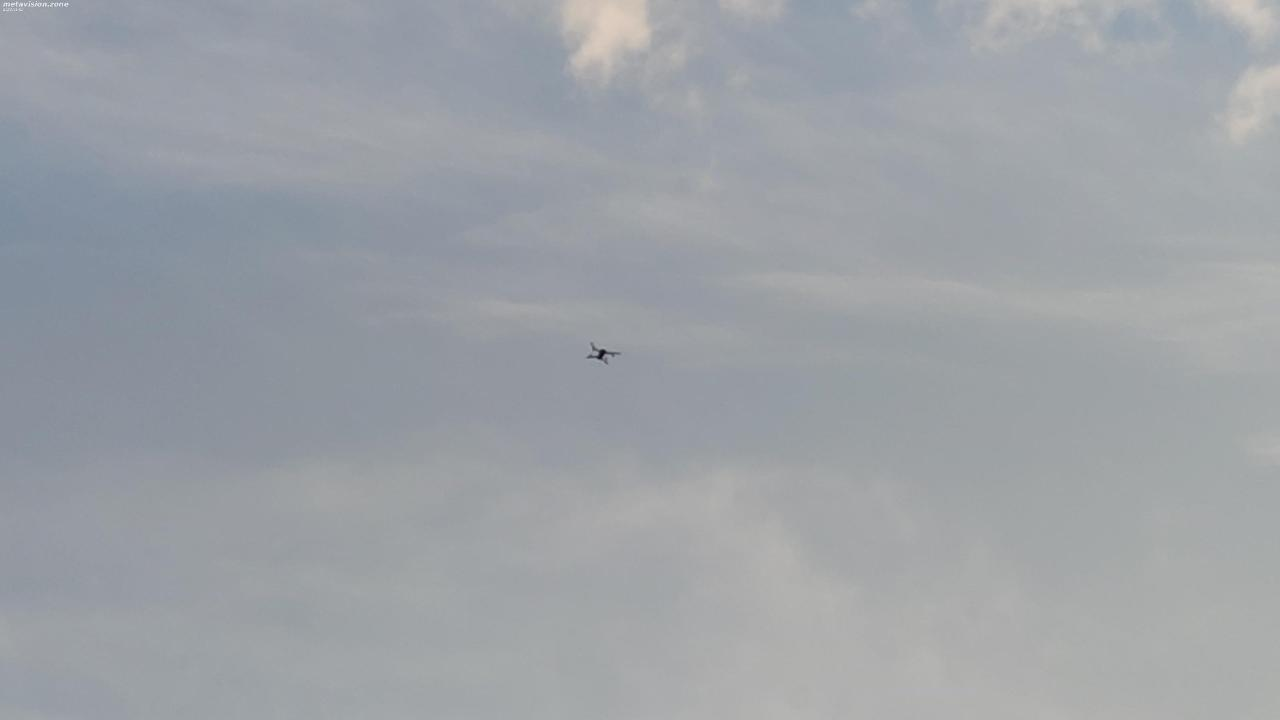drone: (585, 338, 622, 370)
